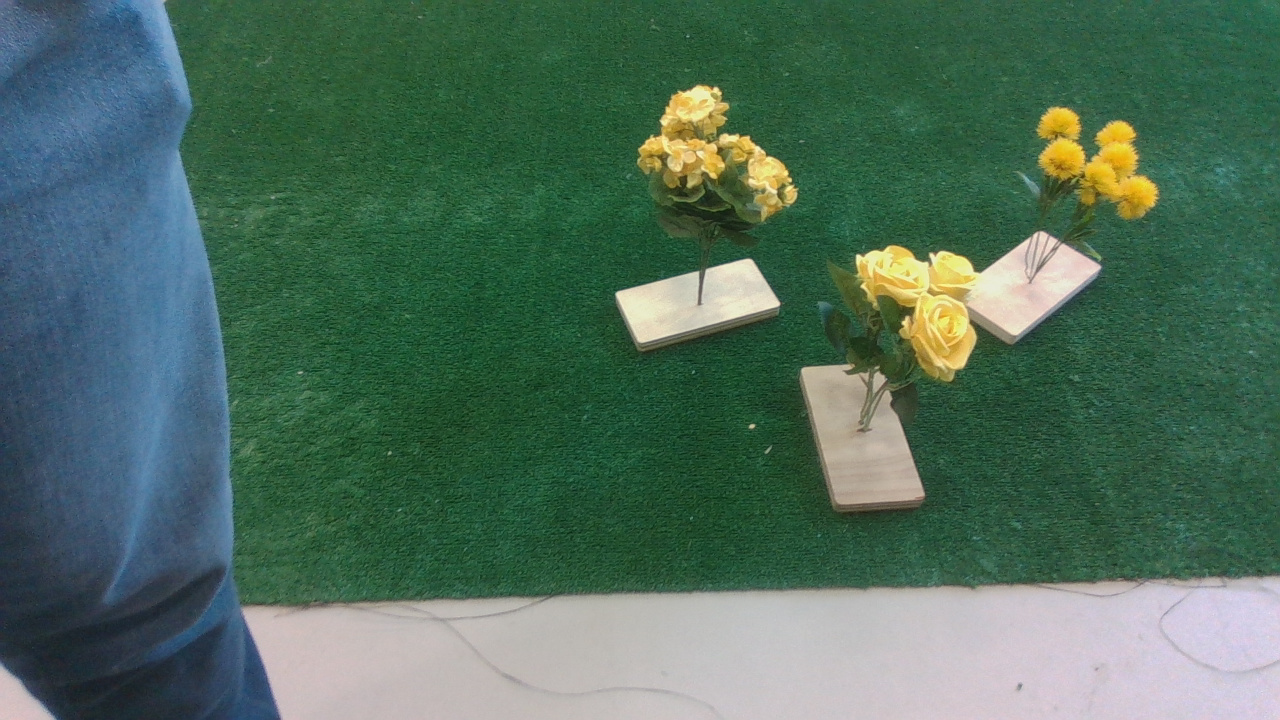dandelion: (1032, 102, 1168, 230)
geranium: (625, 75, 807, 230)
rose: (809, 238, 986, 389)
